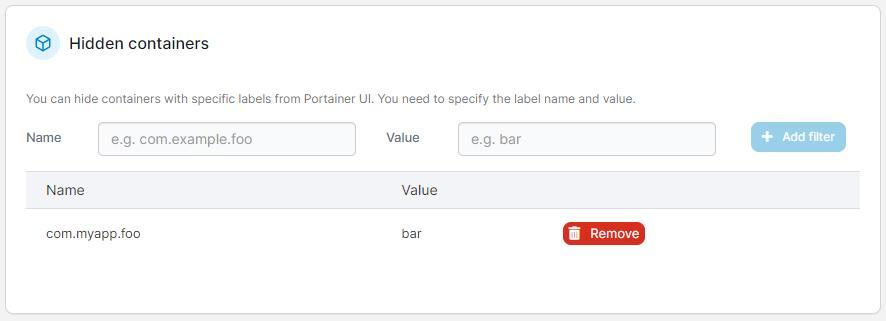button: (751, 121, 849, 154), (562, 221, 647, 247)
input: (459, 122, 717, 158), (98, 122, 357, 156)
label: (27, 91, 639, 108), (70, 35, 212, 54), (43, 228, 145, 244), (45, 184, 89, 200), (402, 185, 442, 201), (386, 130, 423, 147), (26, 131, 67, 144), (399, 225, 426, 243)
